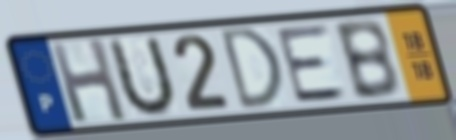2: (170, 32, 235, 115)
B: (330, 16, 403, 103)
D: (218, 24, 289, 115)
E: (273, 21, 352, 107)
H: (46, 35, 132, 126)
U: (106, 33, 178, 122)
